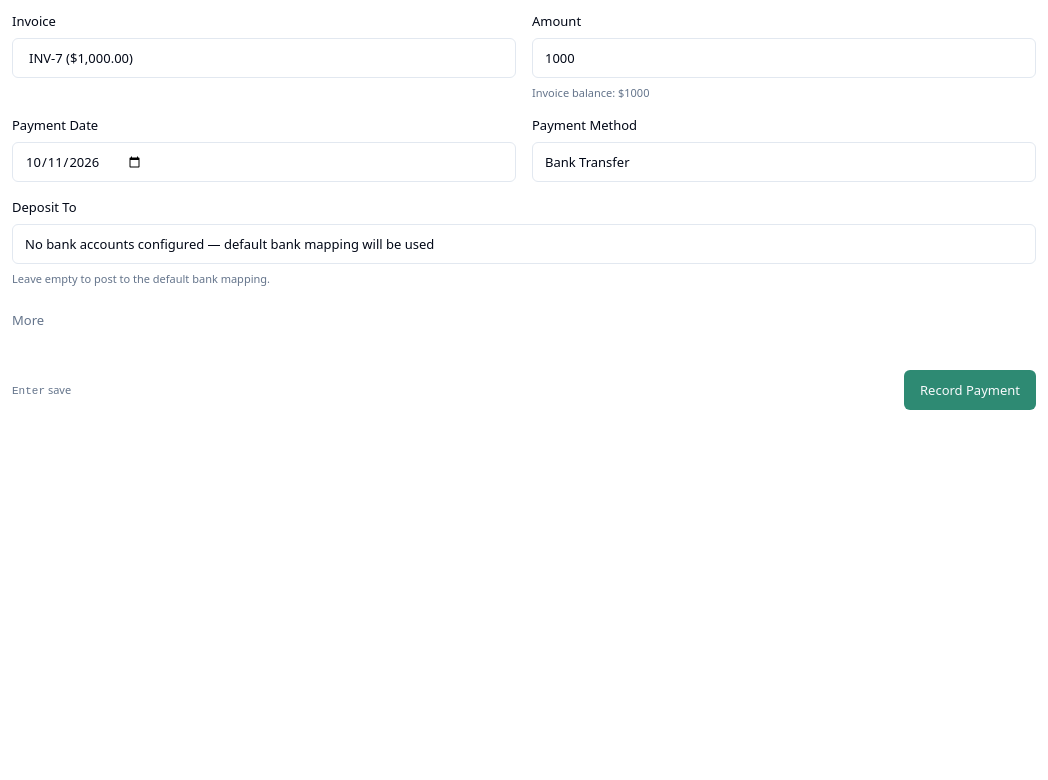
Test case: RecordPaymentForm short-pay chip (#506) › shows no chip when no write-off reason is configured
Step 1. Replace the text in the number field labelled "Amount" with "990" → (784, 58), box [532, 38, 1036, 78]
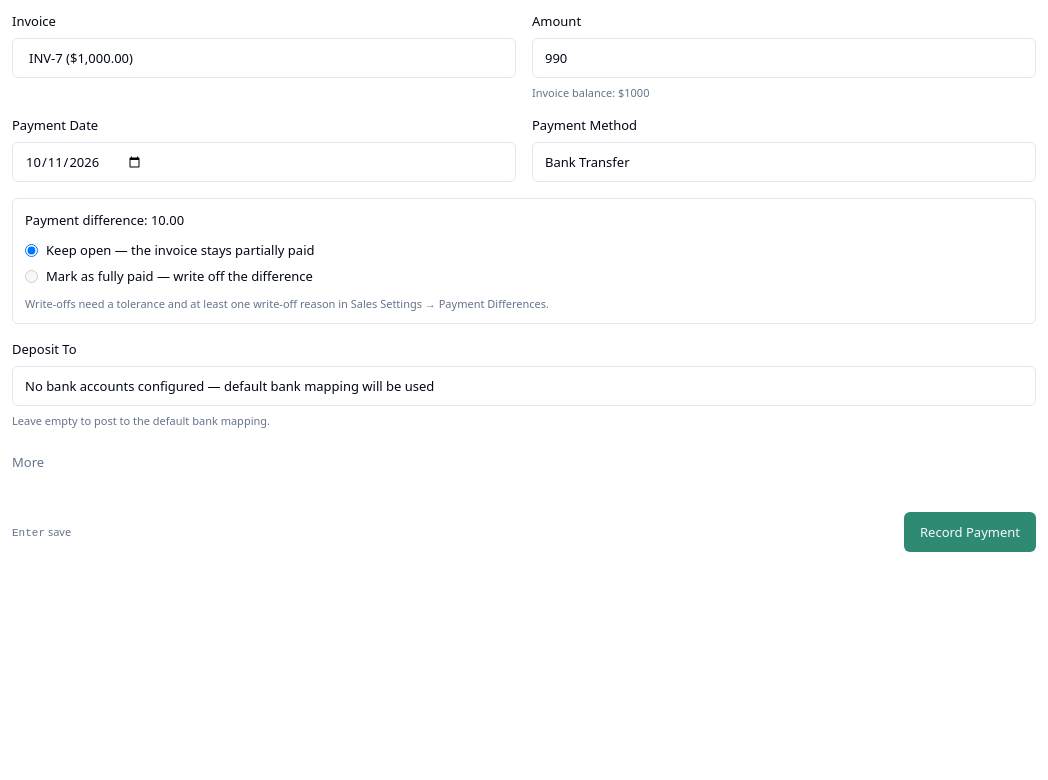
Check: the element with test id "payment-difference" is shown, box [12, 198, 1036, 324]
Check: the text "Write-offs need a tolerance" is shown, box [25, 296, 549, 311]
